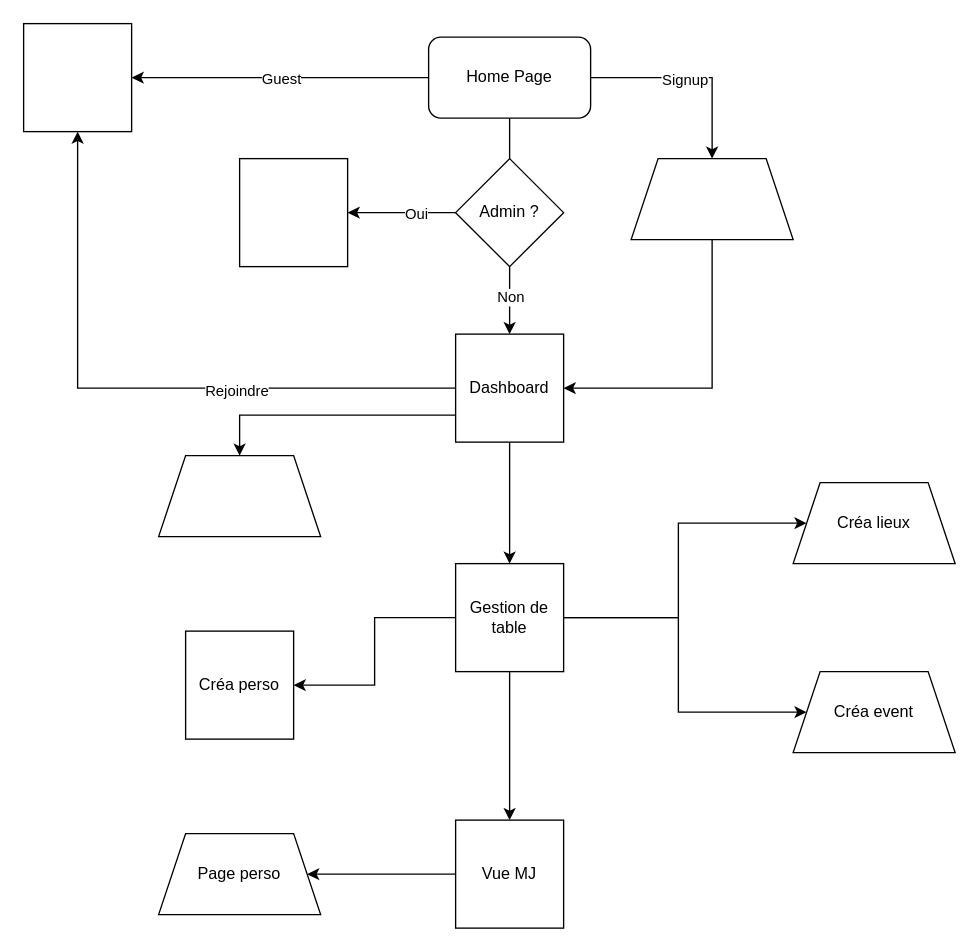
The diagram is 979 pixels wide and 952 high, and some of its shapes have lost their labels. Each missing label, with the box of its shape:
Crea compte: (630, 157, 793, 240)
dashboard admin: (238, 157, 348, 267)
Settings: (157, 454, 321, 537)
Vue PJ: (22, 22, 132, 132)
